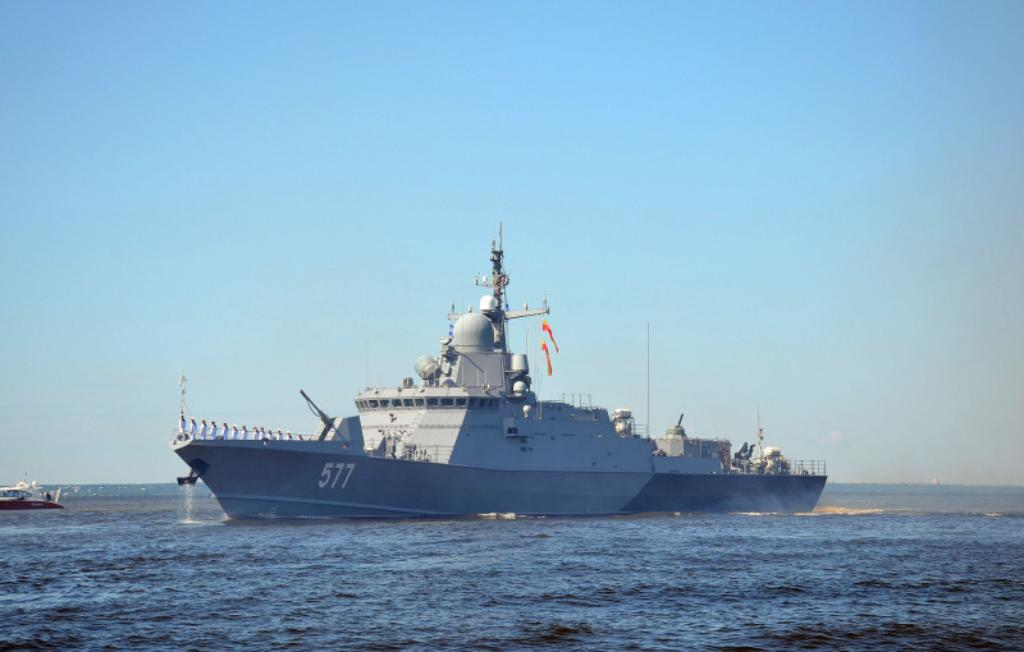Warship: (168, 218, 830, 520)
